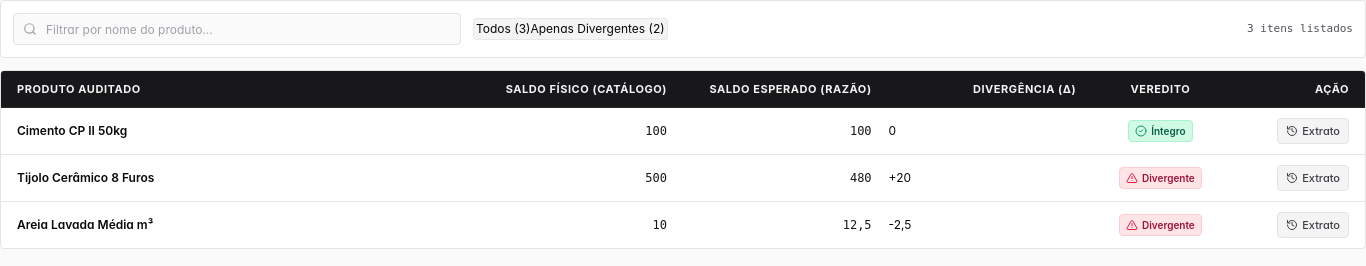
Test: Reconciliation UI Components (Impeccable Workbench) › ReconciliationTable › filtra produtos por busca textual
Type "cimento" into the field with test id "reconciliation-search-input" at coordinates (237, 29), box [13,13,461,45]
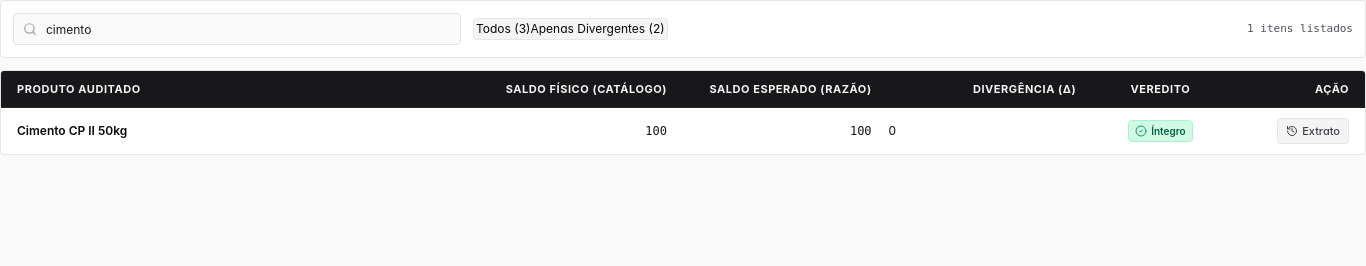
Expected: the text "Cimento CP II 50kg" is shown, [17,123,127,138]
Expected: the text "Tijolo Cerâmico 8 Furos" is gone
Expected: the text "Areia Lavada Média m³" is gone
